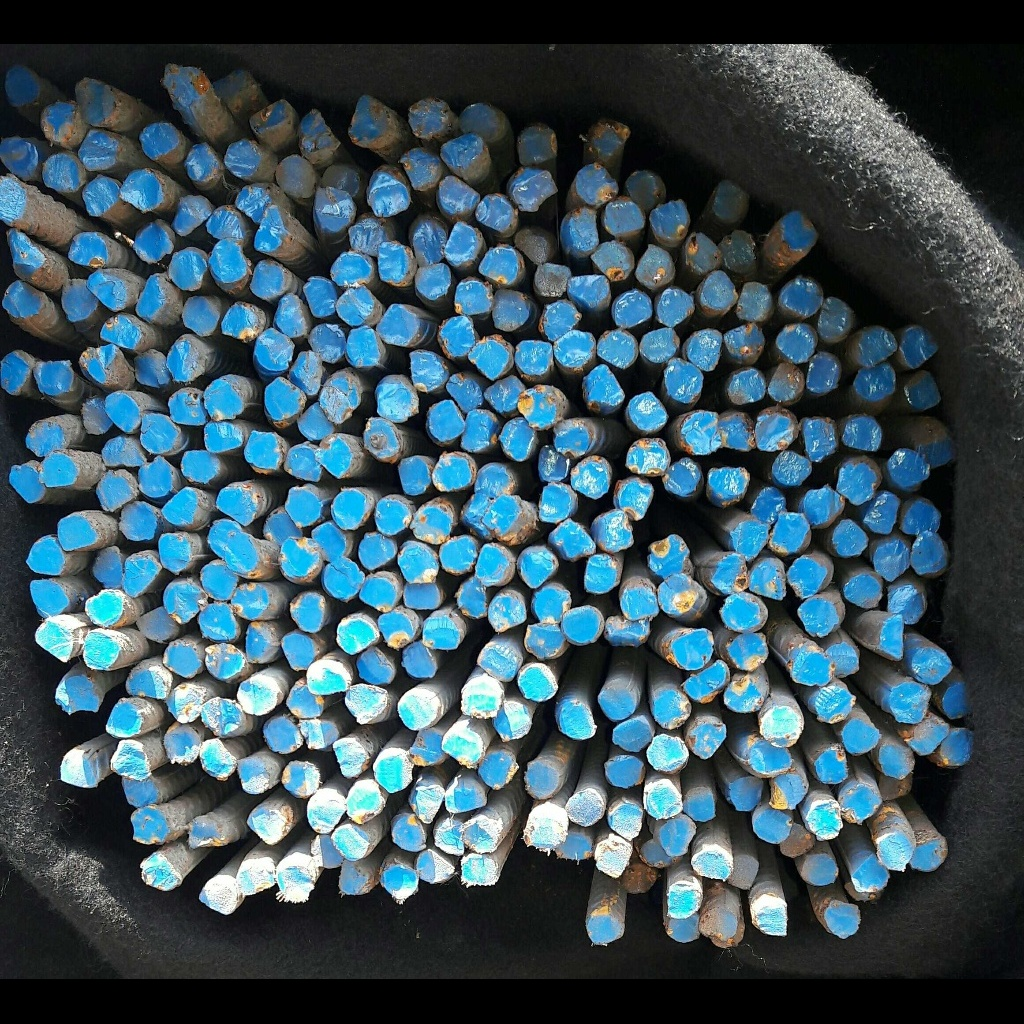dipstick: (136, 274, 183, 326), (349, 96, 395, 146), (6, 230, 49, 282), (487, 496, 531, 543), (682, 660, 730, 703), (375, 374, 418, 421), (755, 405, 799, 450), (376, 303, 421, 346), (279, 536, 323, 579), (457, 104, 506, 142), (368, 172, 410, 216), (647, 534, 691, 576), (319, 379, 360, 424), (76, 78, 116, 124), (79, 344, 123, 385), (527, 806, 568, 850), (585, 119, 630, 159), (167, 337, 206, 383), (721, 594, 768, 632), (121, 170, 163, 212), (275, 155, 317, 197), (889, 449, 931, 491), (350, 216, 393, 257), (516, 169, 557, 212), (664, 358, 703, 403), (550, 519, 596, 557), (576, 164, 618, 205), (856, 324, 898, 365), (802, 486, 844, 527), (345, 684, 388, 724), (468, 339, 511, 379), (316, 187, 356, 230), (591, 241, 634, 281), (914, 422, 954, 465), (378, 242, 417, 286), (636, 244, 675, 288), (570, 455, 609, 499), (759, 707, 803, 746), (308, 790, 346, 835), (712, 180, 750, 225), (626, 439, 671, 477), (673, 629, 714, 670), (41, 101, 81, 143), (204, 643, 247, 682), (323, 557, 362, 600), (399, 541, 438, 584), (701, 909, 744, 948), (836, 462, 875, 505), (771, 513, 810, 556), (256, 327, 294, 371), (501, 417, 539, 461), (163, 68, 209, 104), (164, 583, 205, 623), (199, 559, 239, 600), (592, 511, 632, 552), (374, 751, 413, 793), (493, 699, 532, 741), (492, 289, 531, 331), (516, 225, 558, 264), (562, 606, 604, 645), (891, 681, 930, 723), (60, 279, 98, 322), (405, 147, 443, 190), (683, 411, 721, 454), (853, 363, 897, 400), (440, 135, 486, 170), (111, 739, 151, 779), (730, 519, 770, 559), (97, 470, 136, 511), (409, 98, 450, 137), (439, 177, 478, 218), (516, 125, 557, 164), (604, 197, 645, 236), (658, 575, 697, 616), (710, 553, 749, 594), (798, 598, 839, 637), (265, 376, 303, 418), (520, 385, 558, 427), (520, 546, 558, 588), (662, 459, 704, 497), (646, 735, 688, 773), (901, 326, 939, 368), (210, 239, 247, 282), (247, 807, 290, 844), (720, 231, 757, 274), (55, 676, 99, 712), (410, 218, 446, 262), (564, 207, 597, 255), (524, 622, 569, 657), (749, 741, 794, 776), (79, 131, 119, 170), (172, 196, 212, 235), (139, 414, 179, 453), (202, 697, 242, 736), (443, 729, 483, 768), (476, 544, 515, 584), (36, 621, 74, 662), (331, 823, 372, 861), (336, 287, 377, 325), (649, 199, 690, 237), (724, 323, 765, 361), (708, 465, 749, 503), (659, 816, 697, 857), (786, 558, 827, 596), (840, 784, 881, 822), (363, 418, 400, 460), (749, 558, 786, 600), (127, 664, 170, 700), (818, 297, 854, 340), (216, 71, 260, 106), (317, 436, 352, 480), (348, 779, 383, 823), (244, 431, 283, 470), (477, 193, 516, 232), (263, 715, 303, 753), (487, 593, 527, 631), (586, 365, 624, 405), (644, 779, 684, 817), (719, 411, 757, 451), (783, 276, 823, 314), (1, 137, 38, 178), (169, 250, 206, 291), (360, 572, 397, 613), (409, 351, 446, 392), (336, 618, 378, 654), (911, 531, 947, 573), (1, 351, 36, 394), (3, 68, 42, 106), (135, 222, 173, 261), (204, 380, 242, 419), (298, 401, 336, 440), (198, 603, 237, 641), (198, 739, 236, 778), (627, 170, 665, 209), (553, 418, 592, 456), (887, 586, 926, 624), (753, 806, 792, 844), (83, 176, 120, 216), (134, 348, 171, 388), (409, 726, 446, 766), (478, 752, 518, 789), (543, 300, 580, 340), (124, 555, 160, 596), (397, 692, 438, 728), (462, 682, 503, 718), (617, 478, 653, 519), (775, 325, 816, 361), (912, 648, 953, 684), (444, 777, 486, 812), (301, 108, 335, 151), (60, 750, 98, 788), (686, 233, 724, 271), (87, 273, 126, 310), (30, 579, 69, 616), (231, 583, 270, 620), (281, 760, 320, 797), (357, 646, 394, 685), (657, 287, 694, 326), (654, 690, 691, 729), (222, 304, 262, 340), (137, 457, 173, 497), (290, 592, 326, 632), (323, 165, 363, 201), (597, 331, 637, 367), (904, 369, 940, 409), (806, 800, 842, 840), (909, 720, 949, 756), (42, 155, 83, 190), (428, 399, 463, 440), (802, 420, 837, 461), (864, 493, 899, 534), (792, 651, 833, 686), (463, 410, 497, 452), (445, 222, 479, 264), (687, 329, 721, 371), (275, 293, 308, 336), (136, 606, 179, 639), (331, 253, 374, 286), (484, 377, 527, 410), (532, 585, 570, 622), (559, 701, 596, 739), (593, 839, 630, 877), (629, 392, 667, 429), (780, 212, 818, 249), (768, 362, 805, 400), (4, 282, 43, 318), (182, 297, 218, 336), (9, 464, 45, 503), (120, 502, 156, 541), (163, 642, 202, 678), (163, 725, 199, 764), (238, 757, 277, 793), (286, 488, 322, 527), (358, 534, 397, 570), (479, 644, 515, 683), (480, 248, 519, 284), (613, 292, 652, 328), (843, 416, 882, 452), (873, 541, 909, 580), (140, 123, 180, 158), (26, 420, 66, 455), (245, 623, 280, 663), (238, 679, 278, 714), (555, 332, 595, 367), (567, 275, 612, 306), (224, 532, 258, 573), (307, 661, 349, 694), (308, 324, 345, 361), (701, 271, 738, 308), (816, 686, 853, 723), (768, 771, 805, 808), (225, 140, 261, 178), (130, 807, 168, 843), (597, 684, 635, 720), (807, 352, 843, 390), (433, 456, 472, 491), (346, 327, 381, 366), (440, 317, 475, 356), (255, 207, 286, 251), (263, 513, 303, 547), (639, 328, 679, 362), (540, 482, 574, 522), (728, 634, 768, 668), (217, 487, 253, 524), (83, 632, 119, 669), (833, 519, 869, 556), (168, 389, 206, 424), (105, 393, 140, 431), (27, 539, 65, 574), (519, 663, 554, 701), (447, 372, 482, 410), (566, 790, 604, 825), (751, 488, 786, 526), (825, 900, 860, 938), (251, 100, 290, 134), (69, 233, 108, 267), (35, 360, 74, 394), (199, 880, 238, 914), (331, 490, 365, 529), (693, 846, 732, 880), (724, 678, 763, 712), (738, 282, 772, 321), (815, 745, 849, 784), (584, 554, 617, 594), (456, 577, 487, 619), (236, 187, 272, 223), (106, 701, 142, 737), (441, 537, 477, 573), (463, 816, 499, 852), (278, 866, 313, 903), (413, 508, 450, 543), (524, 762, 559, 799), (752, 900, 787, 937), (852, 855, 889, 890), (878, 834, 913, 871), (86, 592, 124, 626), (142, 856, 180, 890), (516, 340, 554, 374), (773, 452, 811, 486), (101, 317, 140, 350), (158, 534, 191, 573), (334, 739, 367, 778), (611, 718, 650, 751), (609, 803, 642, 842), (902, 501, 941, 534), (843, 573, 882, 606), (909, 839, 948, 872), (206, 208, 246, 240), (102, 437, 146, 466), (286, 446, 321, 482), (161, 488, 197, 523), (208, 521, 242, 558), (417, 850, 454, 884), (392, 814, 426, 851), (842, 720, 879, 754), (57, 517, 95, 550), (376, 498, 409, 536), (620, 585, 658, 618), (460, 853, 499, 885), (476, 464, 515, 496), (537, 442, 569, 481), (606, 616, 649, 645), (305, 277, 336, 317), (92, 547, 123, 587), (293, 351, 321, 395), (185, 145, 219, 181), (201, 564, 237, 598), (168, 686, 202, 722), (310, 832, 344, 868), (403, 641, 437, 677), (415, 264, 451, 298), (729, 369, 765, 403), (312, 524, 345, 561), (455, 281, 492, 314), (941, 728, 974, 765), (780, 824, 818, 856), (181, 451, 220, 482), (238, 864, 277, 895), (604, 756, 643, 787), (250, 262, 284, 297), (340, 860, 374, 895), (535, 264, 570, 298), (691, 722, 725, 757), (880, 745, 916, 778), (282, 633, 314, 670), (286, 684, 323, 716), (120, 775, 157, 807), (300, 719, 339, 749), (398, 456, 428, 495), (81, 399, 115, 433), (825, 643, 859, 677), (383, 865, 418, 898), (729, 776, 762, 811), (423, 617, 459, 649), (668, 880, 699, 917), (663, 912, 700, 943), (684, 787, 716, 822), (189, 816, 225, 847), (412, 786, 443, 822), (205, 422, 243, 451), (879, 616, 904, 660), (41, 454, 76, 485), (801, 855, 837, 885), (586, 913, 623, 942), (557, 831, 595, 859), (1, 179, 26, 221), (728, 854, 758, 889), (404, 582, 441, 610), (624, 864, 657, 894), (943, 683, 964, 718)
